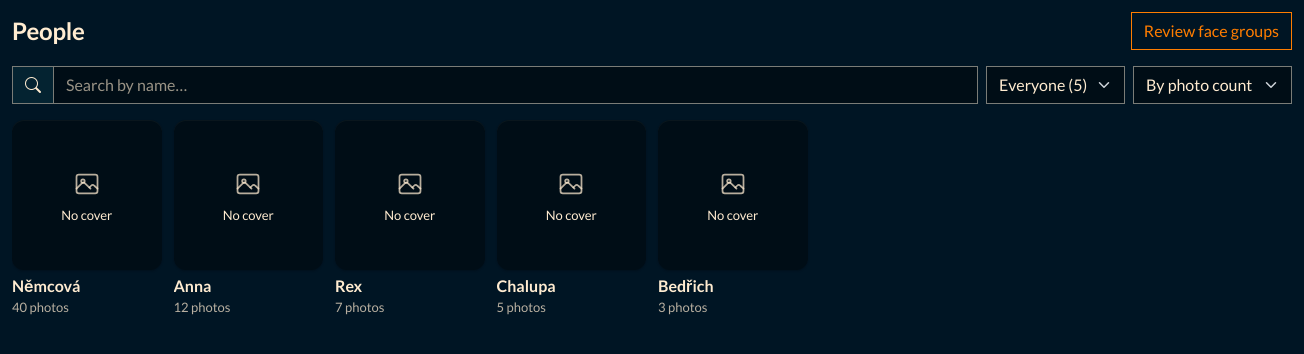
PeoplePage › narrows the grid by name and remembers the search in the URL
The image size is (1304, 354).
Expected: the link "No cover Anna 12 photos" is shown, [174, 120, 323, 316]
Folded, exactly like the library's "Osoba" facet: no diacritics needed.
Type "nemcova" into the search field named "Search people". click: (516, 85)
box: [53, 66, 978, 104]
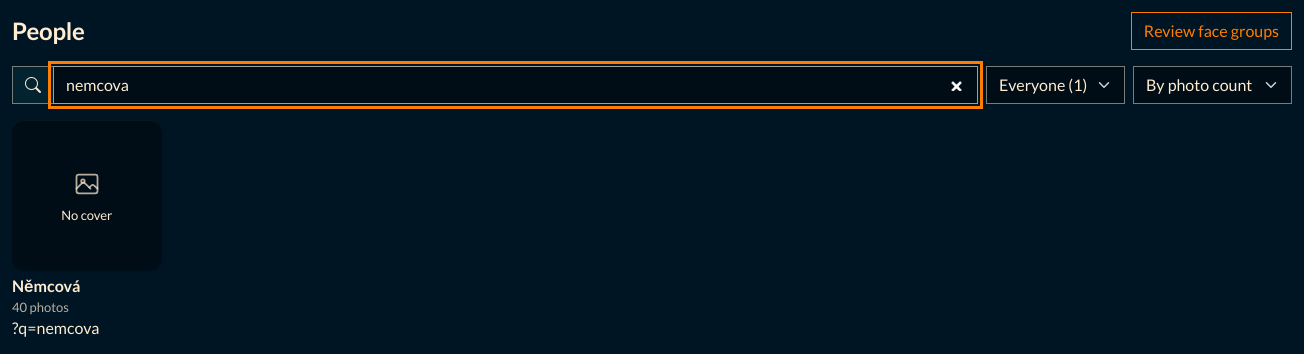
Expected: the text with test id "search" shows "q=nemcova", [12, 318, 100, 337]
